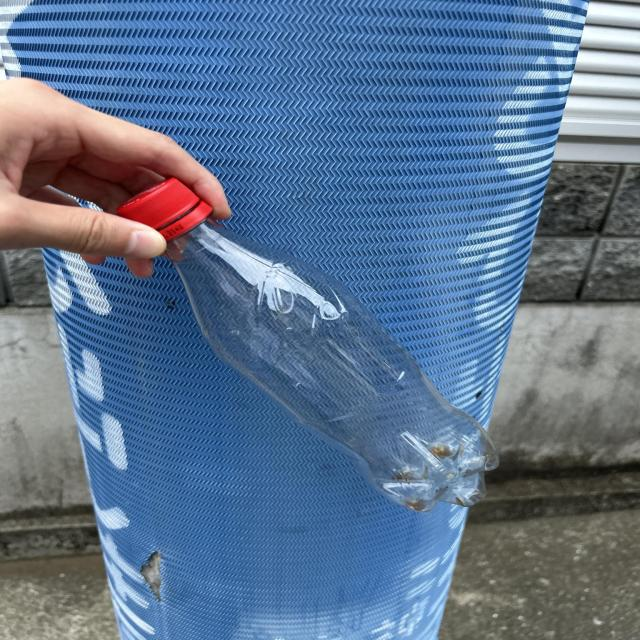empty: (117, 178, 498, 512)
